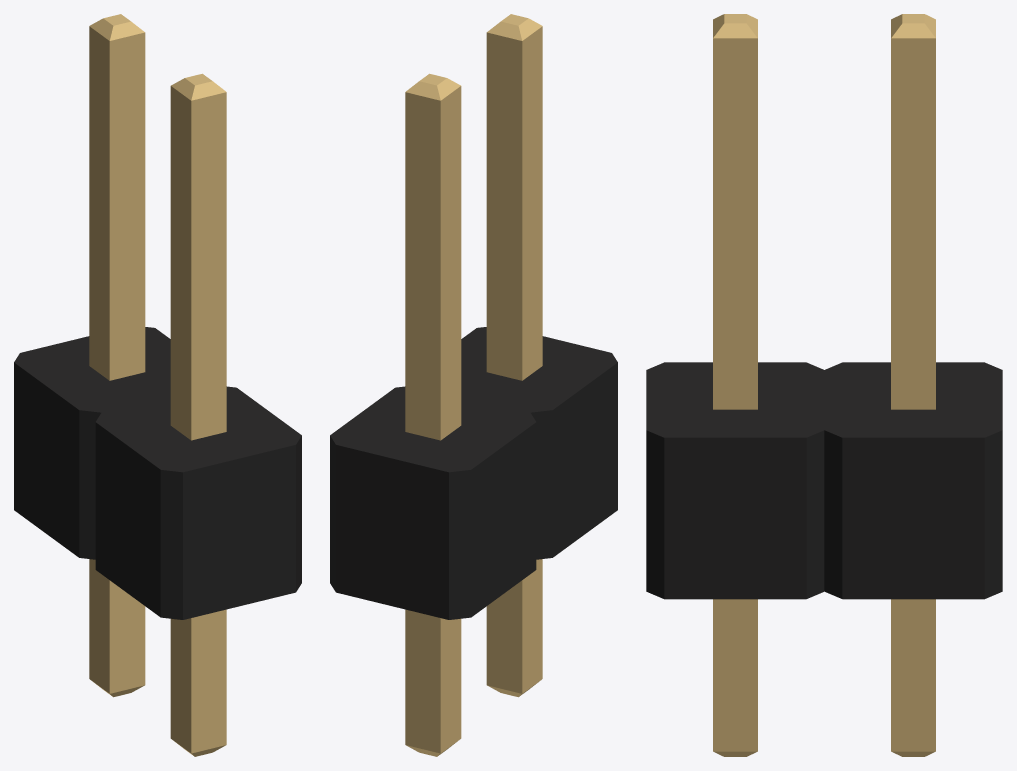
File: PinHeader_1x02_P2.54mm_Vertical.glb
3 views of the same model, side by side, from view 1: azimuth 30°, elevation 25°; view 2: azimuth 150°, elevation 25°; view 3: azimuth 270°, elevation 25° (orthographic). The views are drawn at different scales.
Parts seen in each view (by area): view 1: =>[0:1:1:3]; view 2: =>[0:1:1:3]; view 3: =>[0:1:1:3].
Boxes of the visible parts, left/top/right/bottom form: =>[0:1:1:3]: left=14, top=14, right=301, bottom=756; =>[0:1:1:3]: left=330, top=14, right=617, bottom=756; =>[0:1:1:3]: left=646, top=14, right=1002, bottom=756.
Size of the model in its own units: 0.00254 by 0.0115 by 0.00508.
